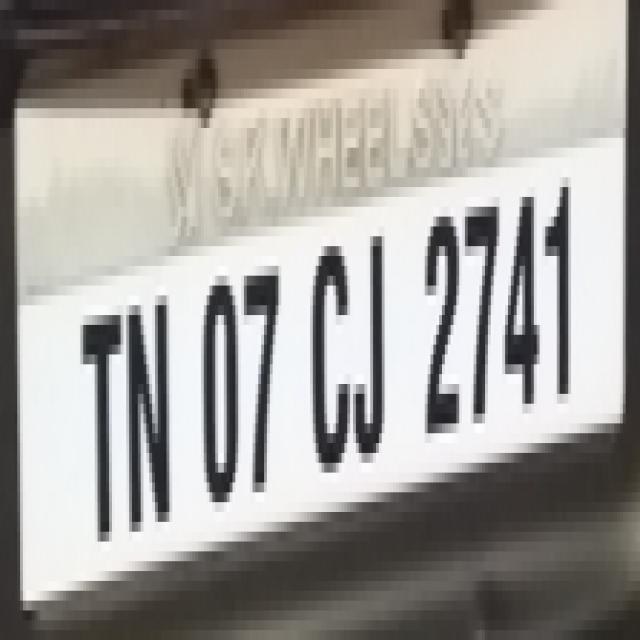0: (199, 278, 243, 513)
1: (543, 182, 581, 396)
4: (506, 158, 540, 448)
7: (238, 243, 282, 508), (464, 180, 502, 422)
C: (308, 241, 355, 481)
J: (352, 221, 392, 469)
N: (125, 284, 174, 538)
T: (75, 294, 133, 548)
